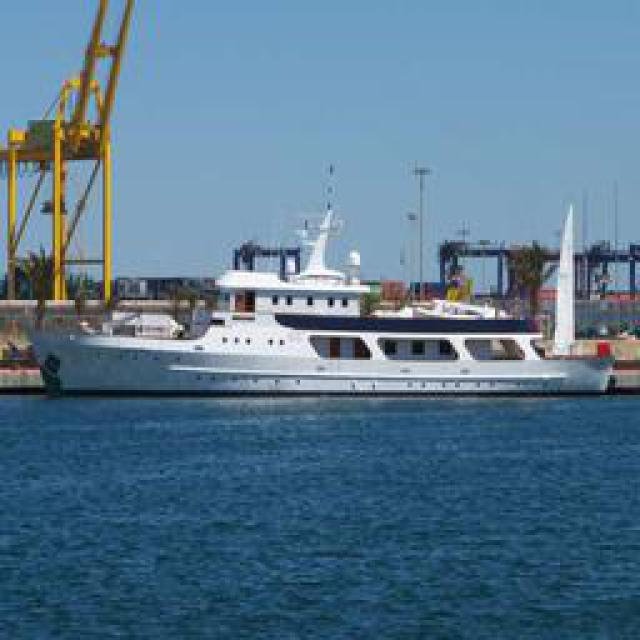Ship: (16, 241, 624, 404)
